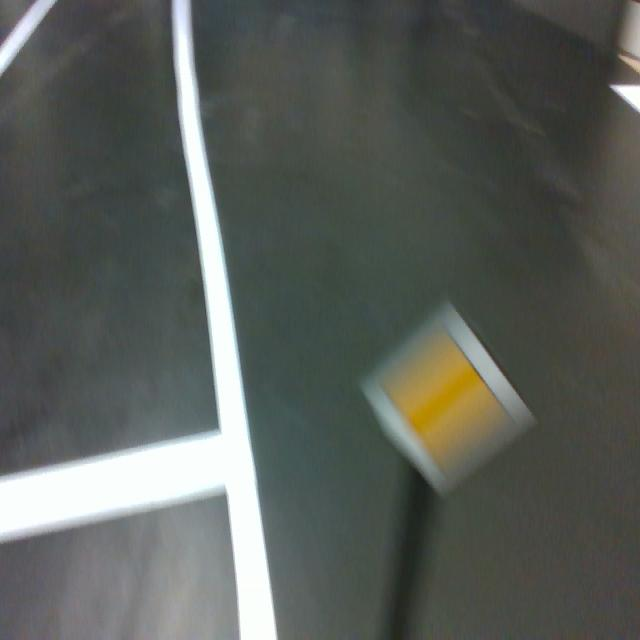priority-sign: (360, 298, 540, 498)
